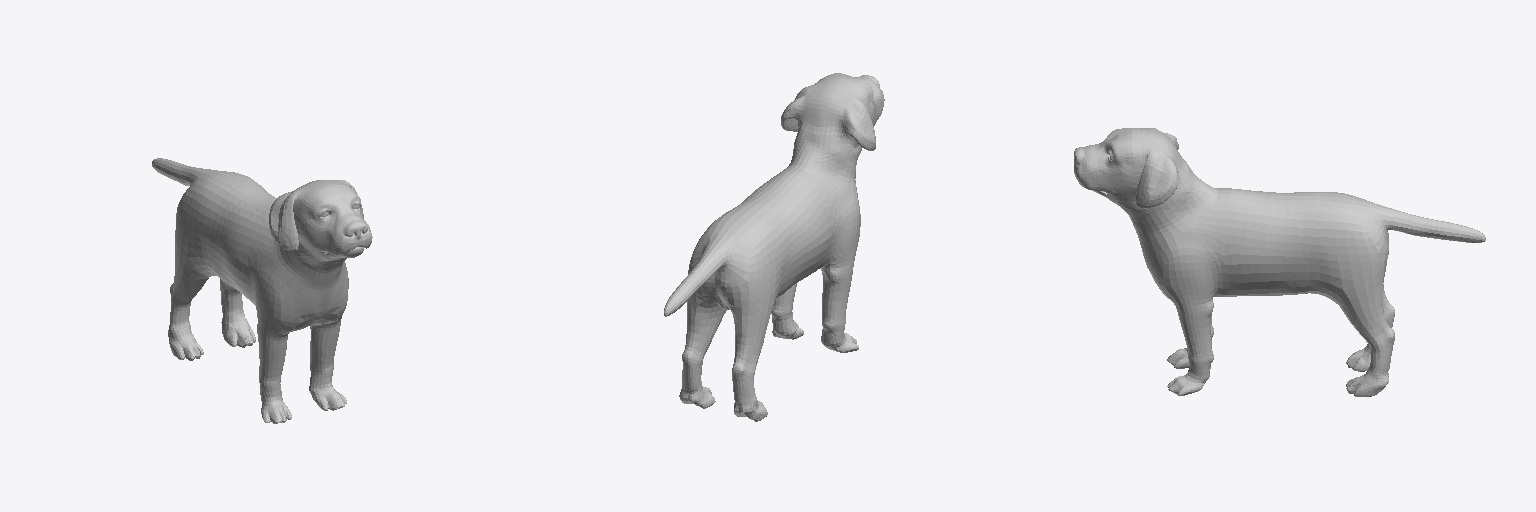
The model's file is dog.obj.
3 renders of one model, left to right at view 1: azimuth 30°, elevation 25°; view 2: azimuth 150°, elevation 25°; view 3: azimuth 270°, elevation 25°, orthographic.
Parts seen in each view (by area): view 1: dog; view 2: dog; view 3: dog.
Part boxes in pixels (bbox=[...]): dog: bbox=[152, 158, 372, 423]; dog: bbox=[664, 73, 884, 421]; dog: bbox=[1074, 128, 1485, 396].
Bounding box in the file's own units: 6.67 × 17.74 × 26.79.